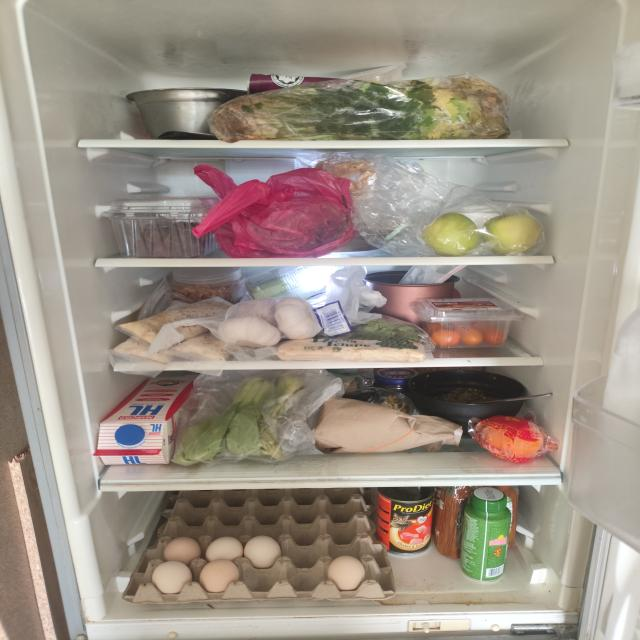apple: (483, 212, 541, 254), (424, 212, 478, 257)
egg: (121, 488, 396, 605)
garlic: (218, 297, 323, 347)
grape: (102, 197, 218, 257)
leafy_greens: (211, 78, 509, 140)
orange: (480, 420, 544, 459)
pakchoy: (173, 376, 305, 467)
tempeh: (113, 296, 236, 365), (276, 338, 428, 363)
